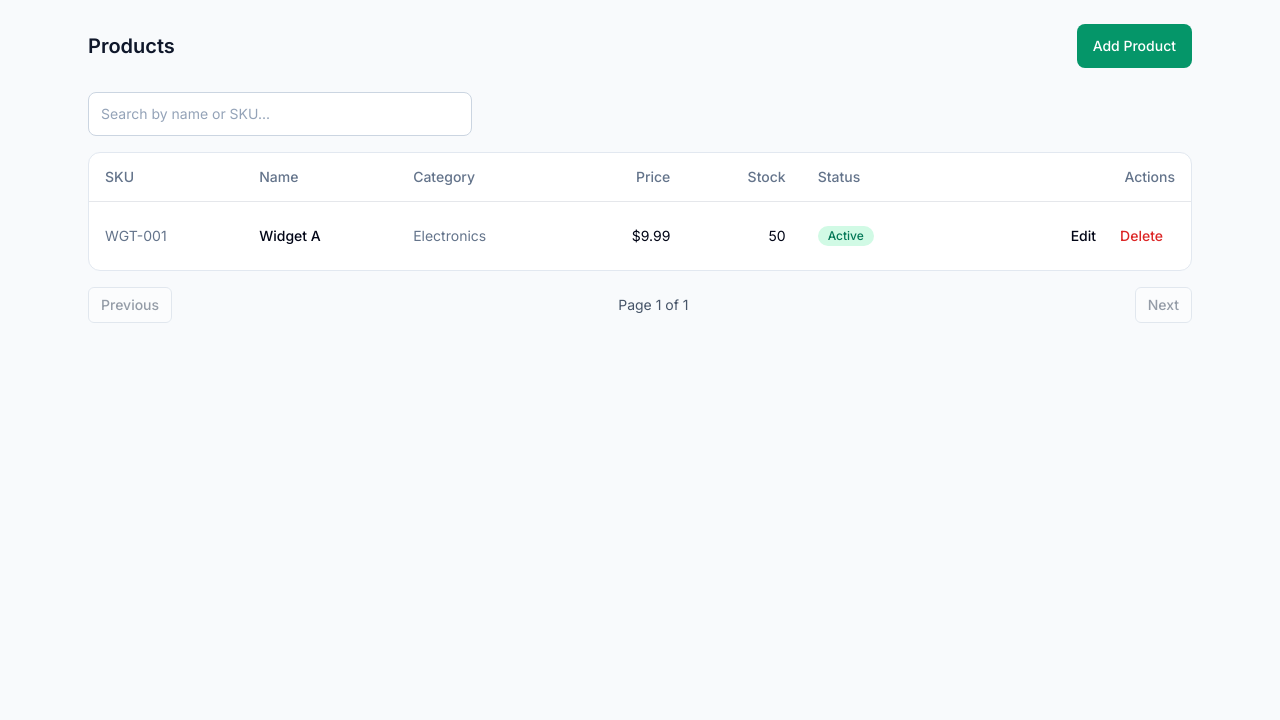
ProductsPage + useProducts integration › dismisses delete dialog on cancel
Check: the text "Widget A" is shown, box [243, 201, 397, 270]
Click the button "Delete" at [1142, 236], box [1108, 218, 1175, 254]
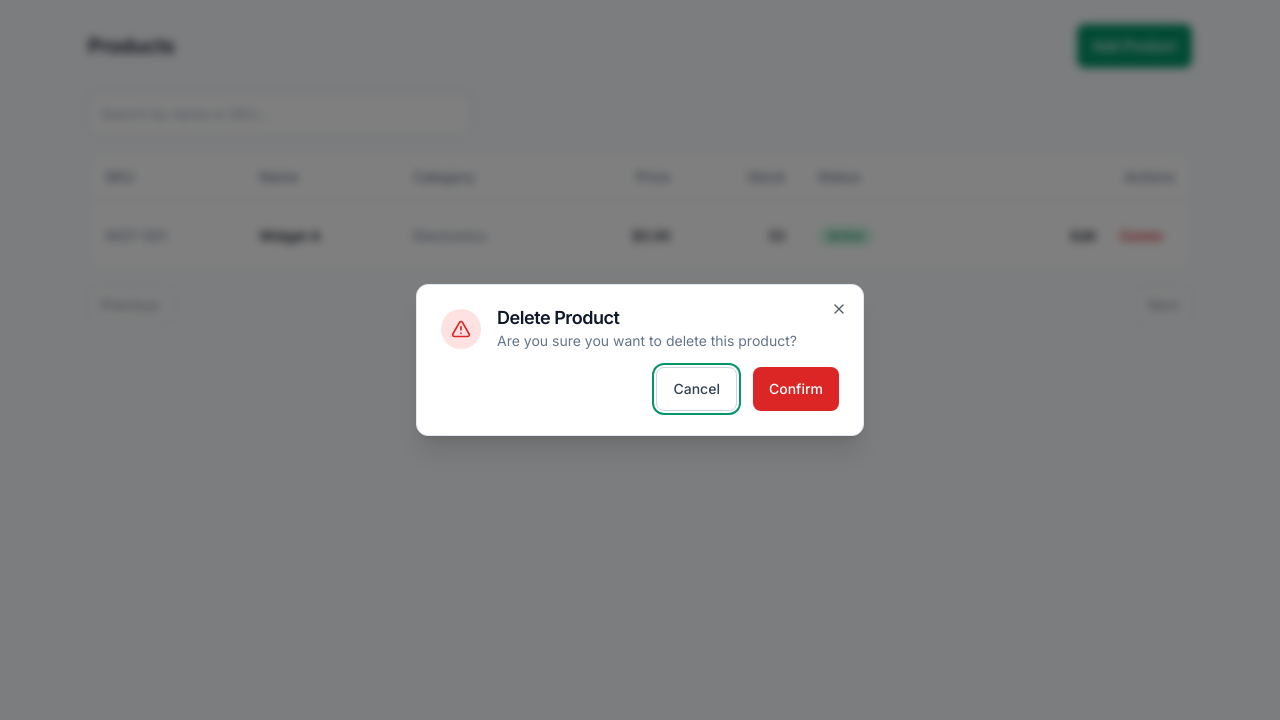
Check: the dialog is shown, box [416, 284, 864, 436]
Click the button "Cancel" at [697, 389], box [656, 367, 737, 411]
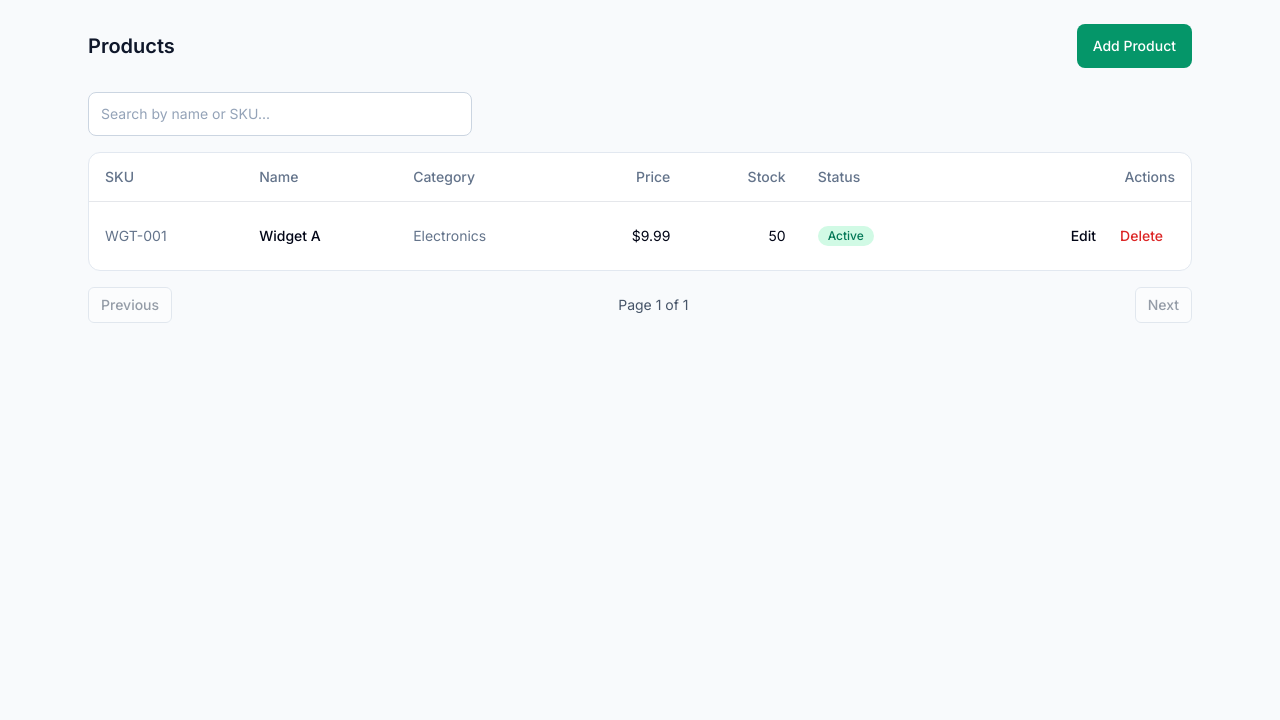
Check: the dialog is gone
